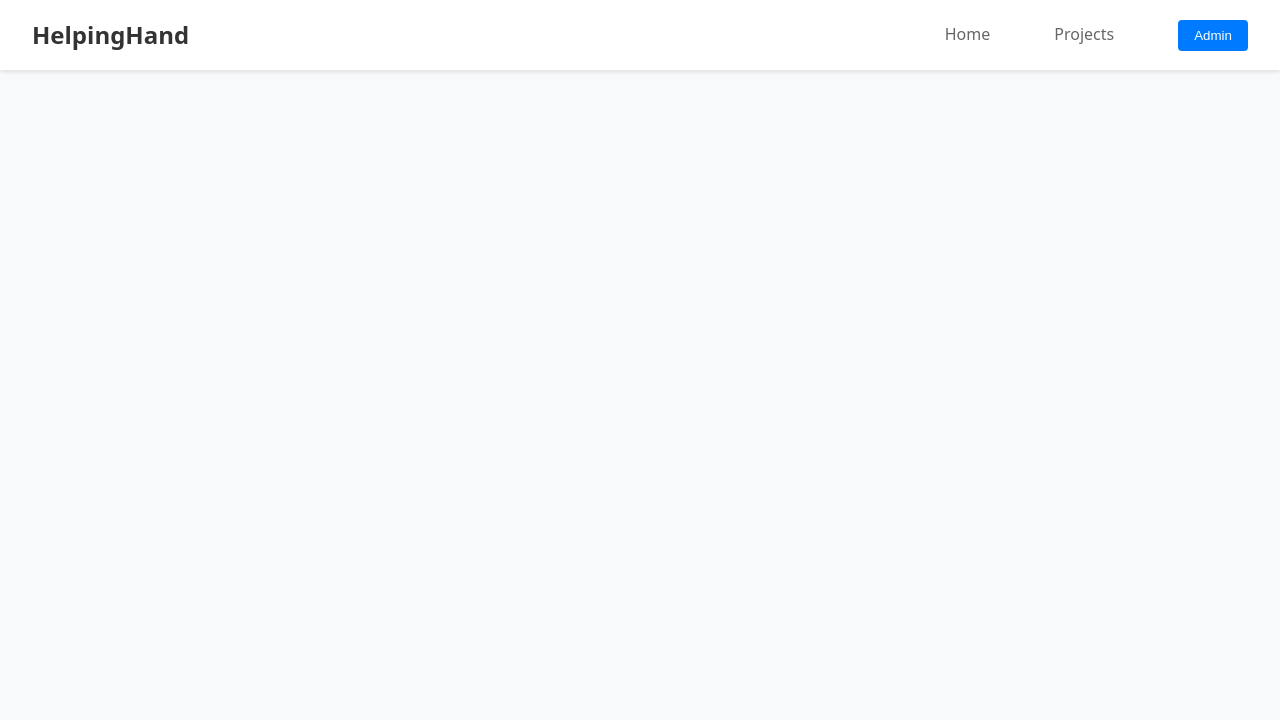
it: Navbar Component › Admin Popup › should open admin popup when admin button is clicked
Click the button "Admin".
click(1213, 35)  # box [1178, 20, 1248, 51]
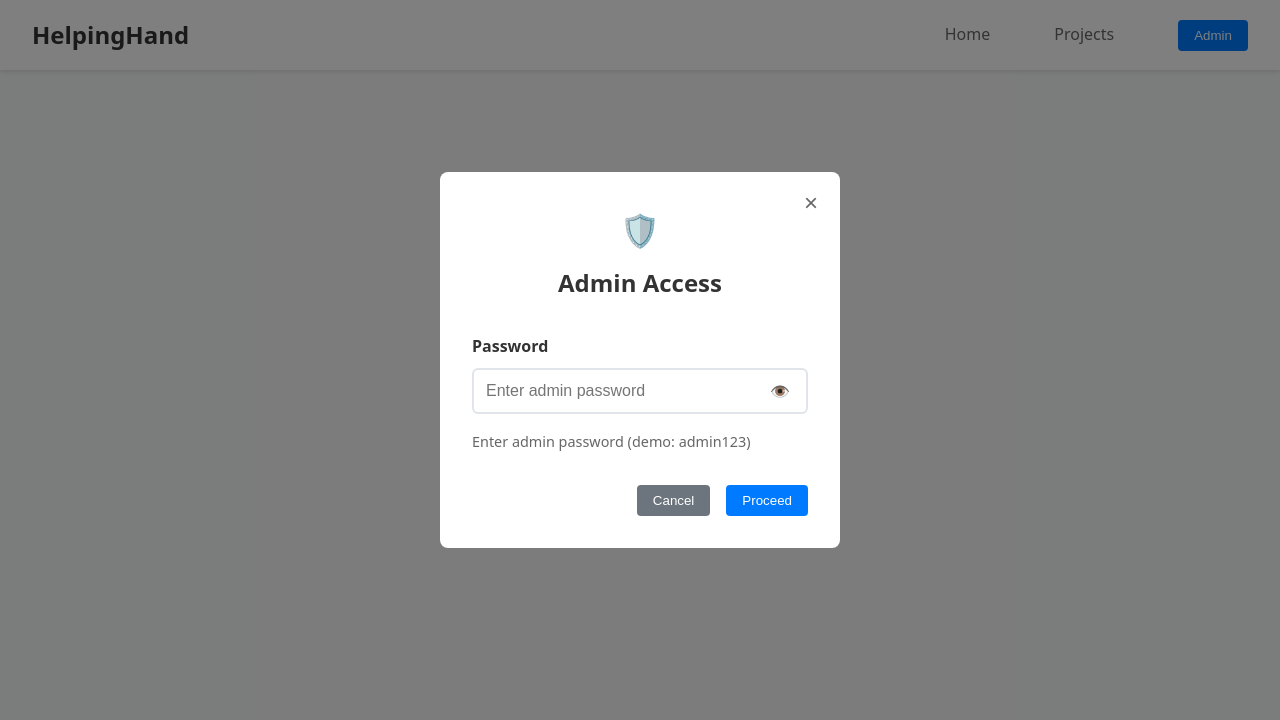
Result: the text "Admin Access" is shown at [558, 266, 722, 299]
Result: the password field with placeholder "Enter admin password" is shown at [472, 368, 808, 414]
Result: the button "Cancel" is shown at [637, 485, 710, 516]
